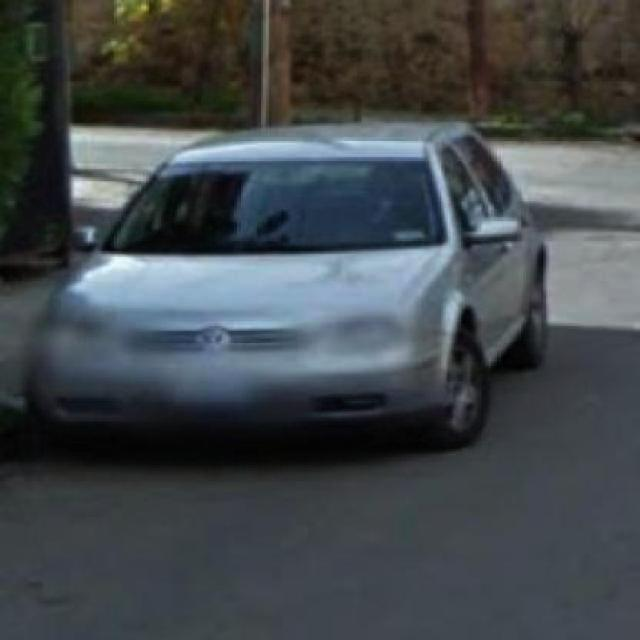car: (43, 112, 548, 451)
